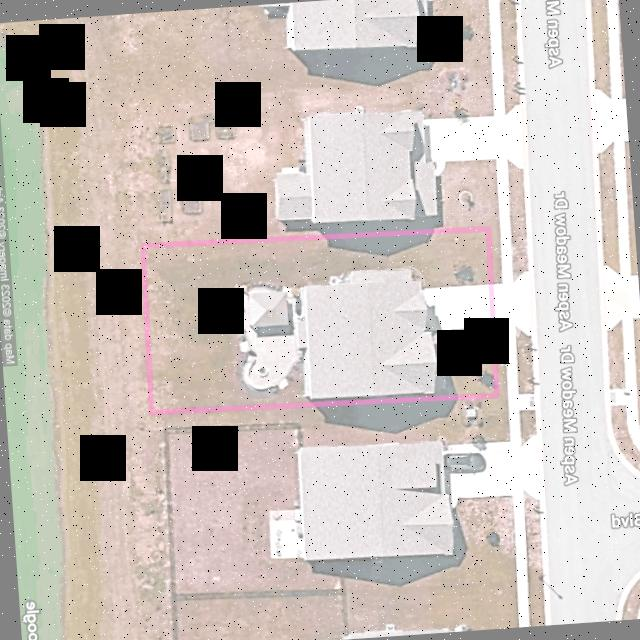Driveway: (421, 282, 491, 346)
Extra Driveway: (493, 270, 532, 334)
Extra Lawn: (515, 324, 534, 394), (509, 223, 528, 281), (495, 325, 508, 395), (490, 225, 502, 283)
Extra Sidewalk: (504, 323, 518, 394), (499, 224, 513, 282)
House: (295, 268, 435, 397)
Other: (234, 284, 301, 388)
Sidewalk: (431, 331, 446, 391), (300, 346, 309, 395), (299, 285, 306, 314)
